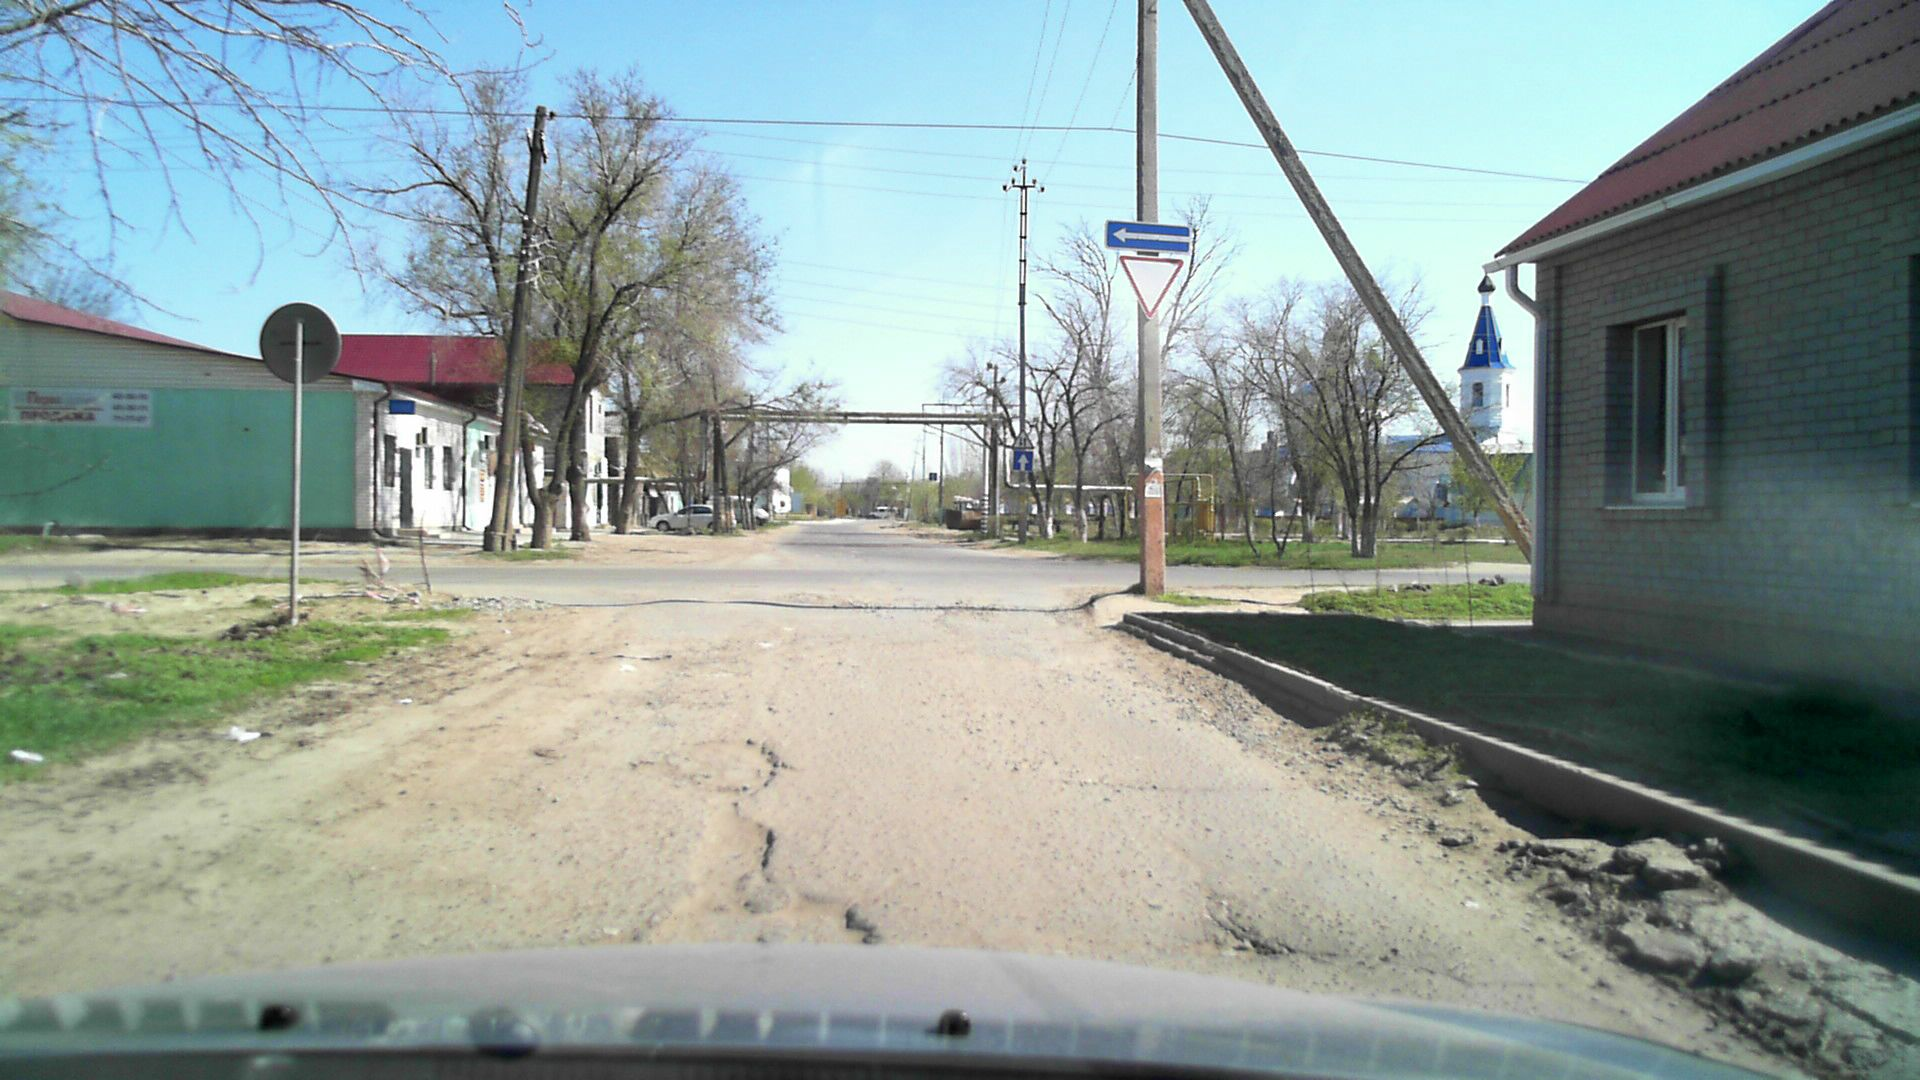One-Way Traffic: (1104, 220, 1191, 255)
